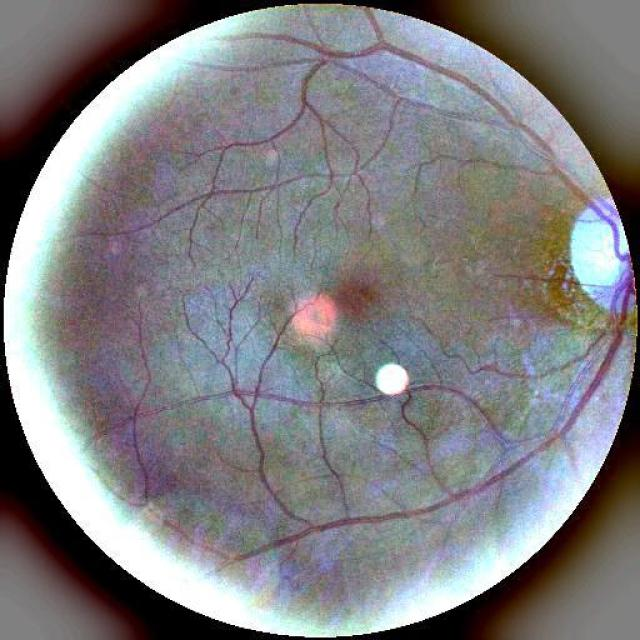Macula: (328, 278, 375, 319)
Nerves: (214, 266, 631, 569), (251, 31, 622, 279)
Optic Disk: (572, 209, 625, 292)
